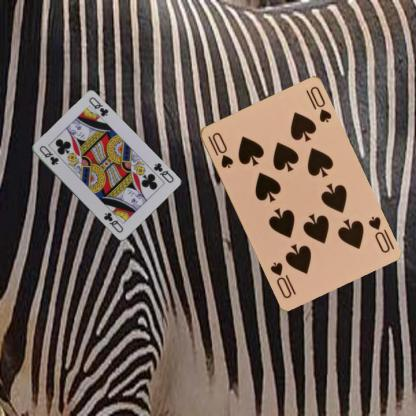10s: (204, 129, 234, 170), (365, 213, 391, 254)
Qc: (36, 143, 60, 166), (151, 160, 174, 184)
